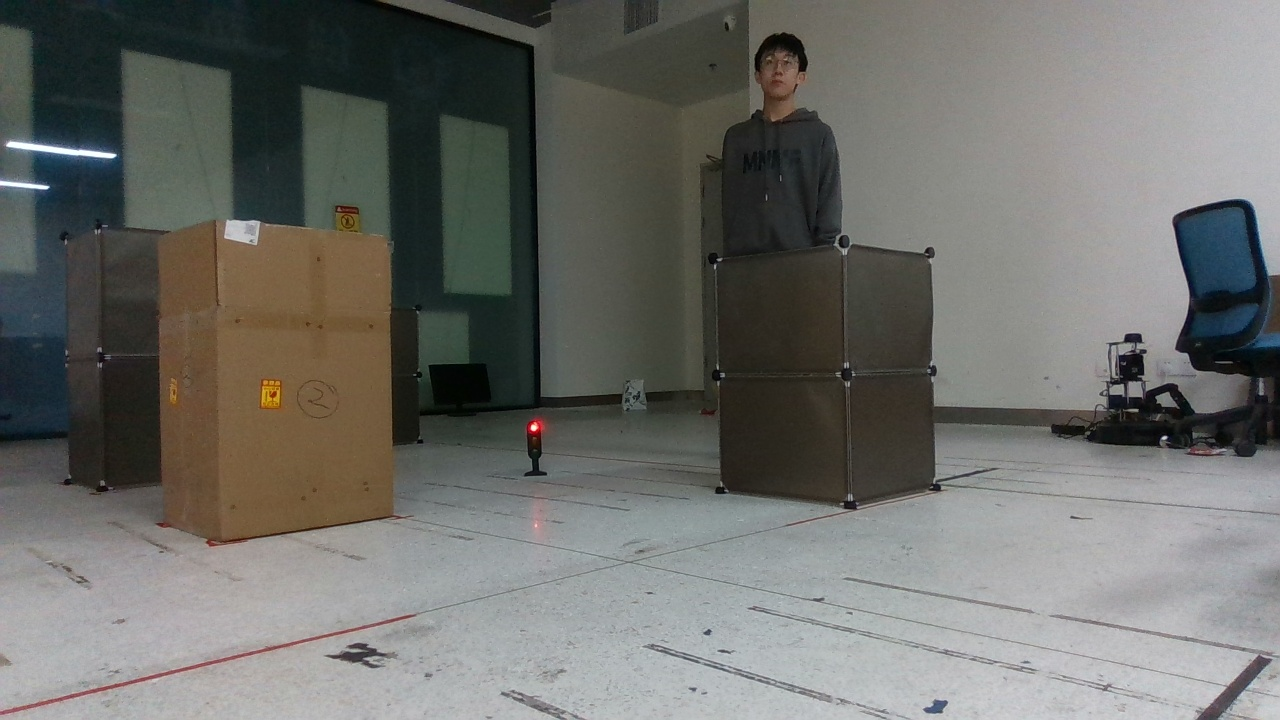red_light: (515, 411, 561, 486)
